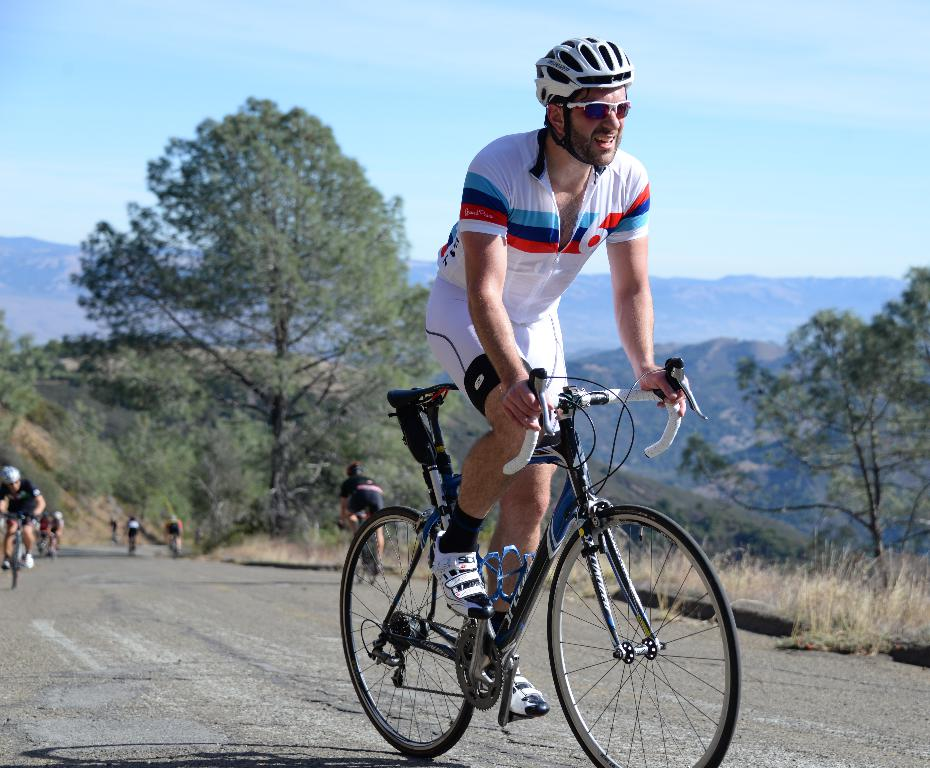Bike_toward: (328, 382, 758, 768)
